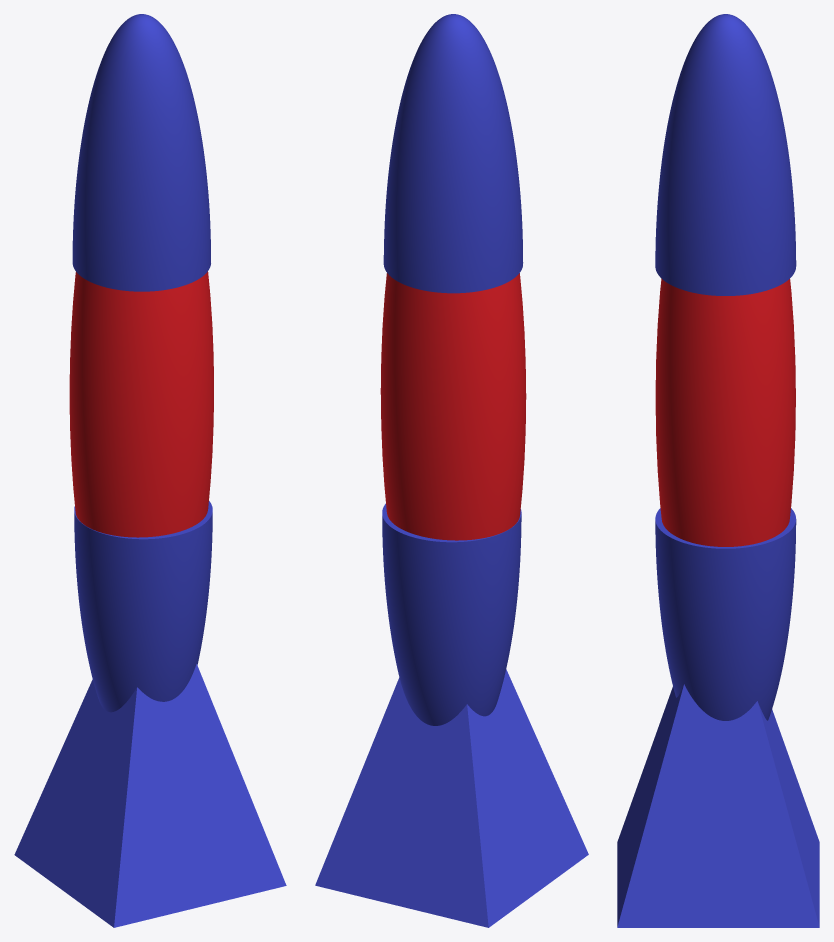
File: lavalamp.fbx
3 renders of one model, left to right at view 1: azimuth 30°, elevation 25°; view 2: azimuth 150°, elevation 25°; view 3: azimuth 270°, elevation 25°, orthographic.
Visible parts, largest first — view 1: root (×4); view 2: root (×4); view 3: root (×4).
Part boxes in pixels (x1,y1,x2,y2): root (×4): (14,14,286,927); root (×4): (315,14,588,927); root (×4): (617,14,819,927).
Size of the model in its own units: 0.0614 by 0.2897 by 0.0614.
